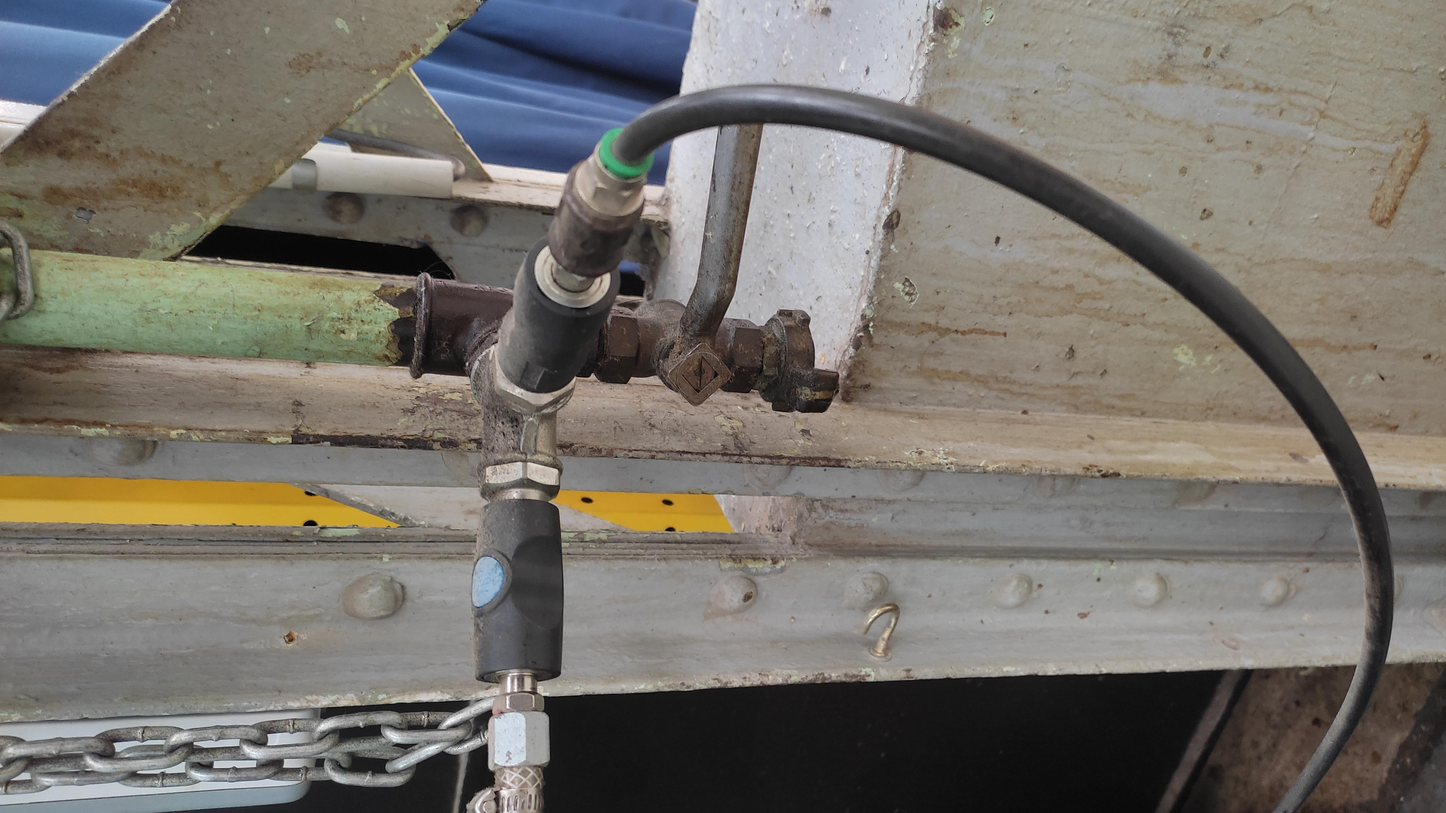closed valve: (621, 94, 776, 417)
